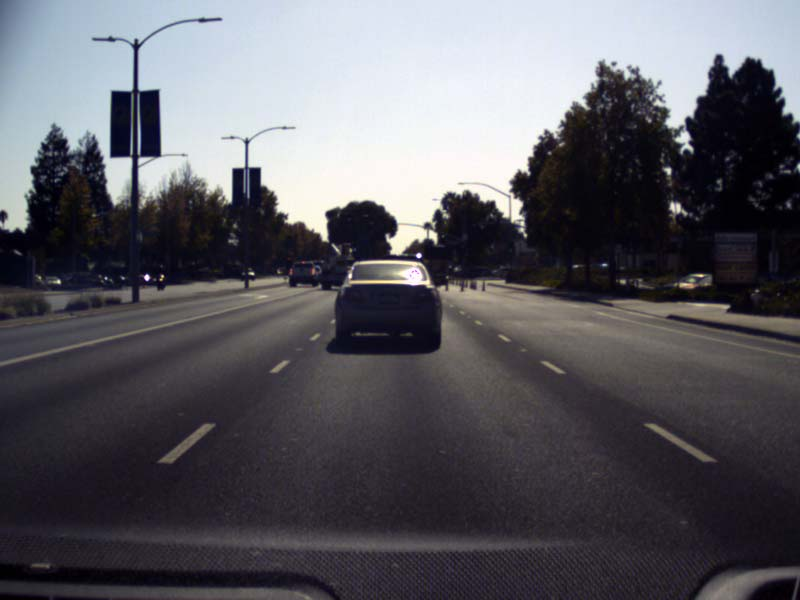Green: (507, 241, 514, 253)
